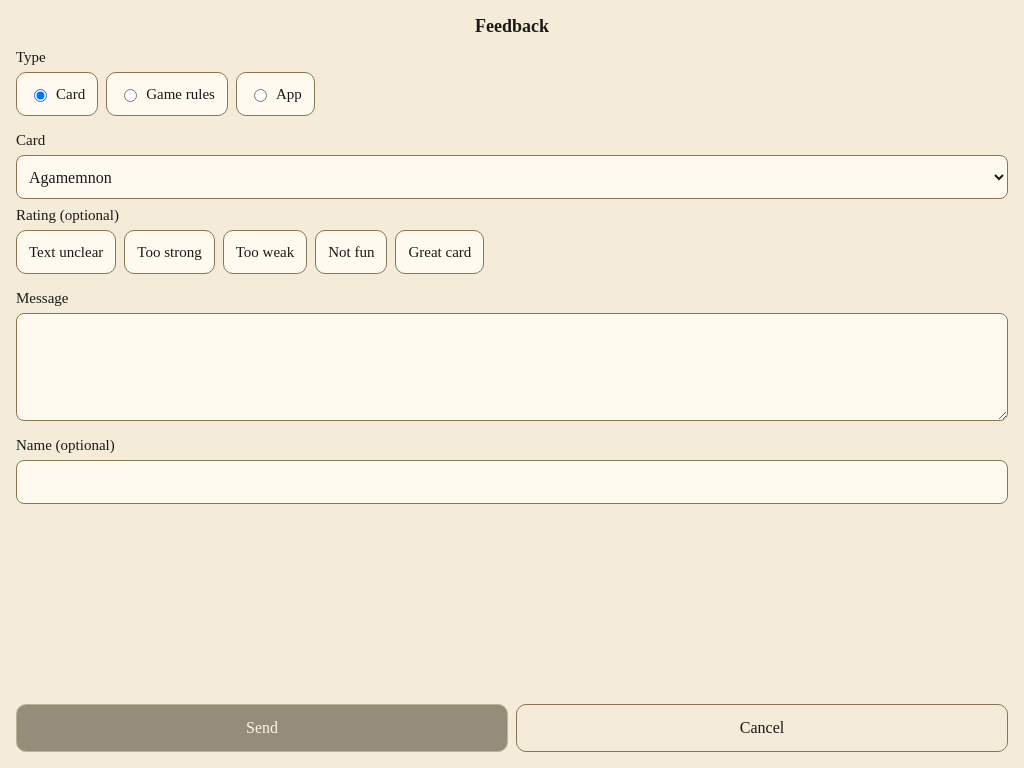
it: the request has the card, the rating, the name and the version
Click the button "Not fun": (351, 252) [315,230,388,274]
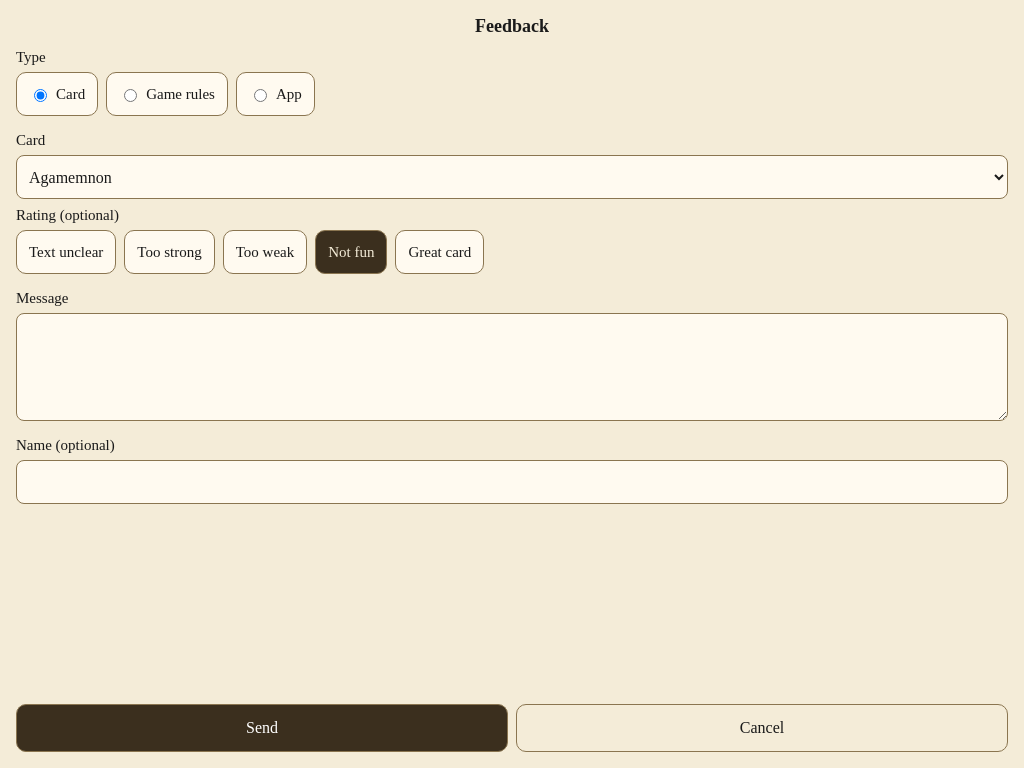
In the field labelled "Name (optional)": (512, 482) [16,460,1008,504], type "Anna"
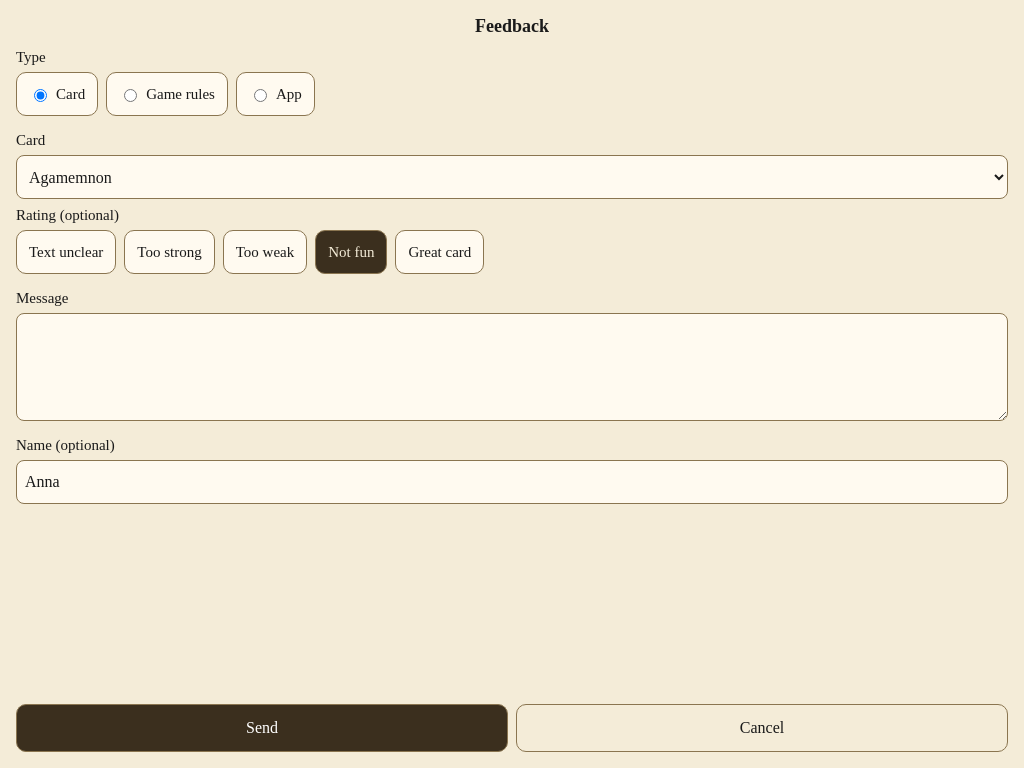
Click the button "Send": (262, 728) [16,704,508,752]
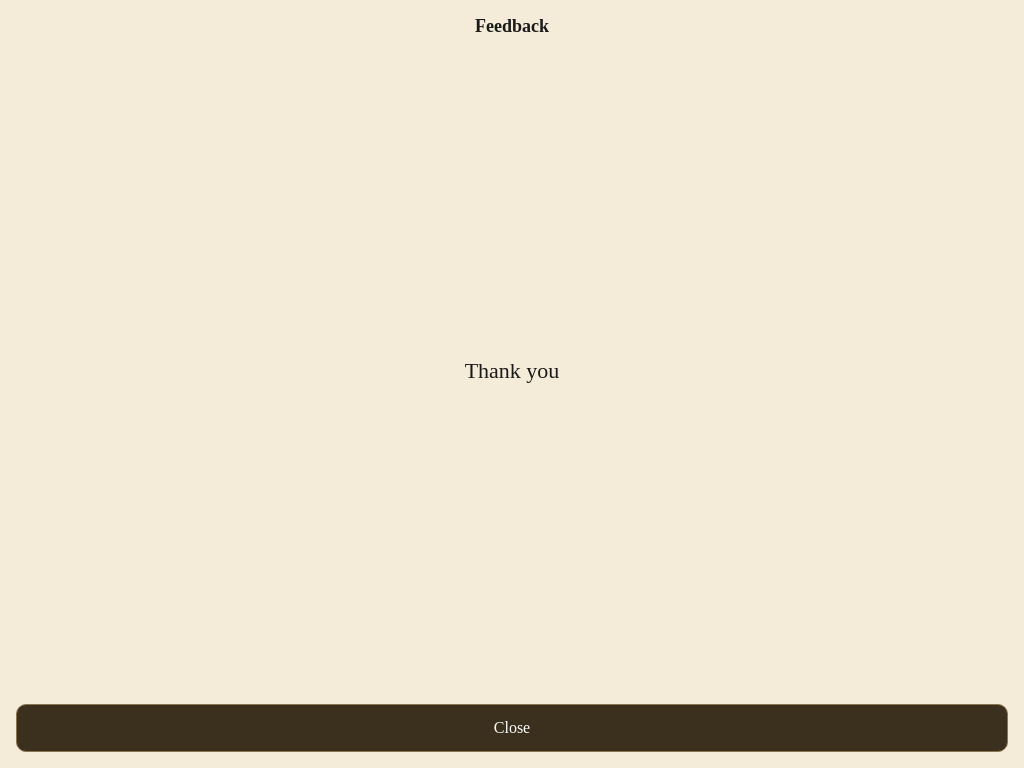
Check: the text "Thank you" is shown, box [465,358,559,382]
